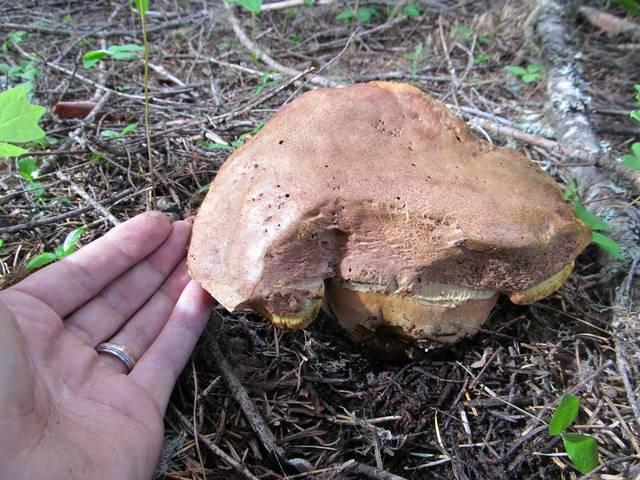Edible Mushroom: (185, 78, 592, 358)
